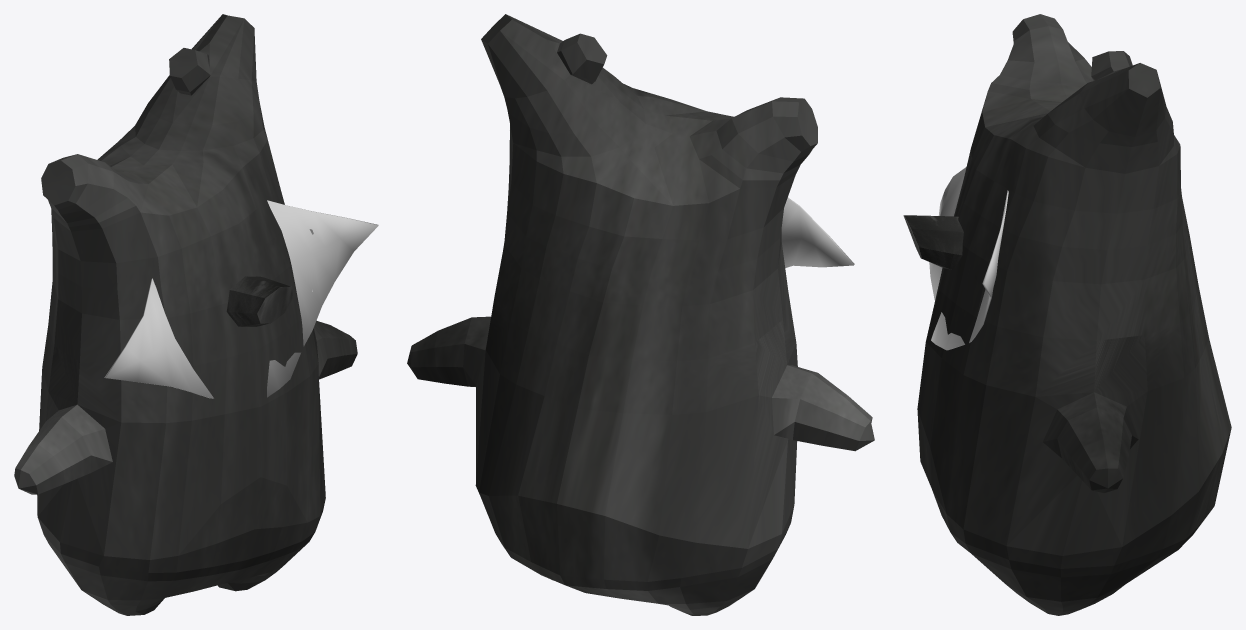
The model's file is frame_0045.obj.
3 views of the same model, side by side, from view 1: azimuth 30°, elevation 25°; view 2: azimuth 150°, elevation 25°; view 3: azimuth 270°, elevation 25° (orthographic). The views are drawn at different scales.
Visible parts, largest first — view 1: korok, leaf, nose; view 2: korok, leaf; view 3: korok, leaf, nose.
Boxes of the visible parts, x1=… form: korok: x1=14, y1=14, x2=357, y2=615; leaf: x1=104, y1=200, x2=378, y2=398; nose: x1=226, y1=276, x2=292, y2=326; korok: x1=407, y1=14, x2=874, y2=615; leaf: x1=781, y1=197, x2=854, y2=267; korok: x1=917, y1=14, x2=1231, y2=615; leaf: x1=929, y1=167, x2=1008, y2=350; nose: x1=903, y1=215, x2=963, y2=269.
Size of the model in its own units: 1.71 by 2.3 by 1.21.
